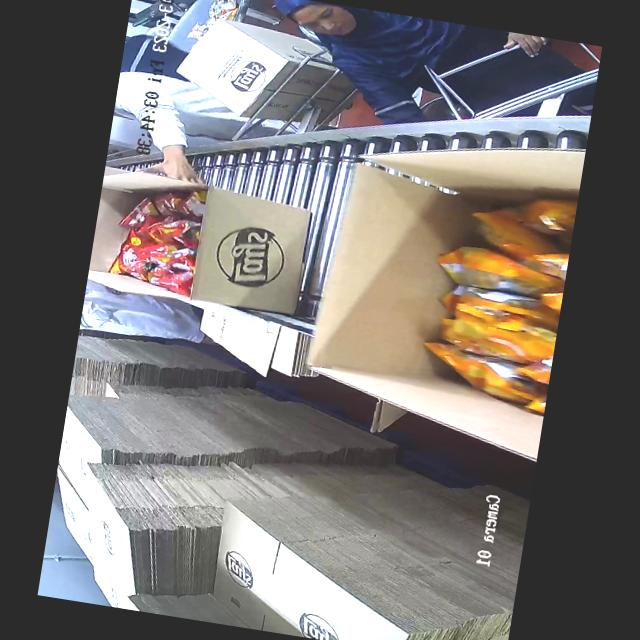cheese: (418, 181, 578, 426)
masala: (127, 186, 211, 301)
